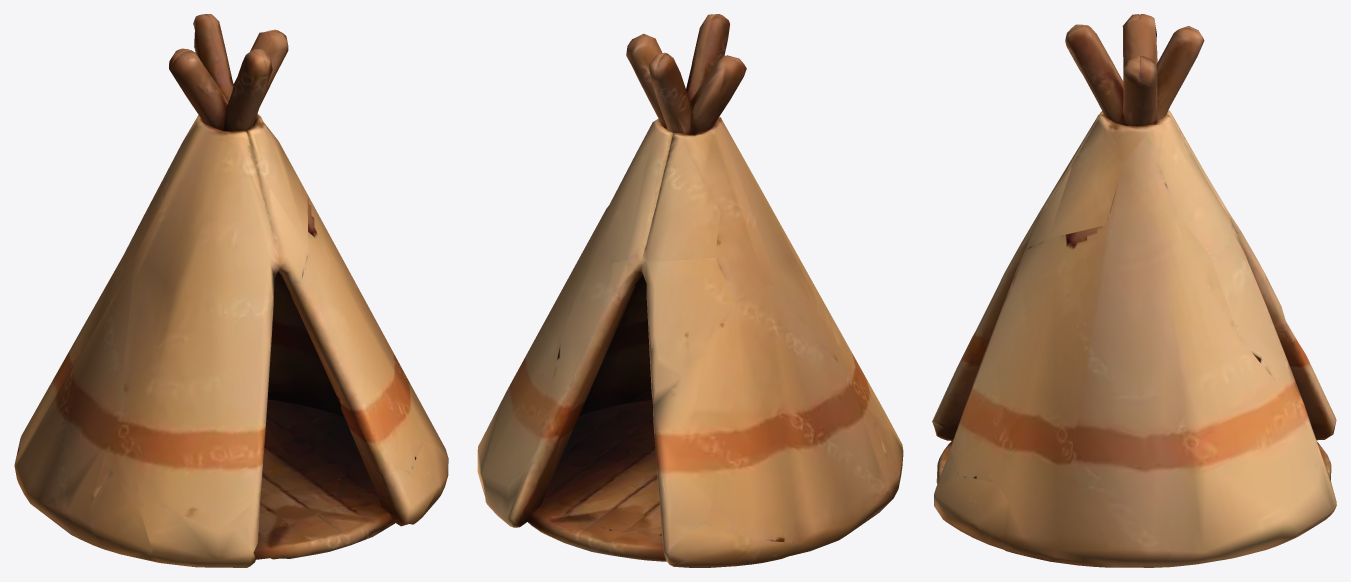
Rendered from teepee_pbr.glb.
3 renders of one model, left to right at view 1: azimuth 30°, elevation 25°; view 2: azimuth 150°, elevation 25°; view 3: azimuth 270°, elevation 25°, orthographic.
Parts seen in each view (by area): view 1: model.017; view 2: model.017; view 3: model.017.
Boxes of the visible parts, left/top/right/bottom form: model.017: left=14, top=14, right=448, bottom=567; model.017: left=477, top=14, right=903, bottom=567; model.017: left=932, top=14, right=1336, bottom=567.
Bounding box in the file's own units: 1.4 × 1.62 × 1.3.
1 material, 1 textured.
